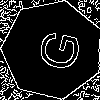G: (27, 25, 82, 74)
